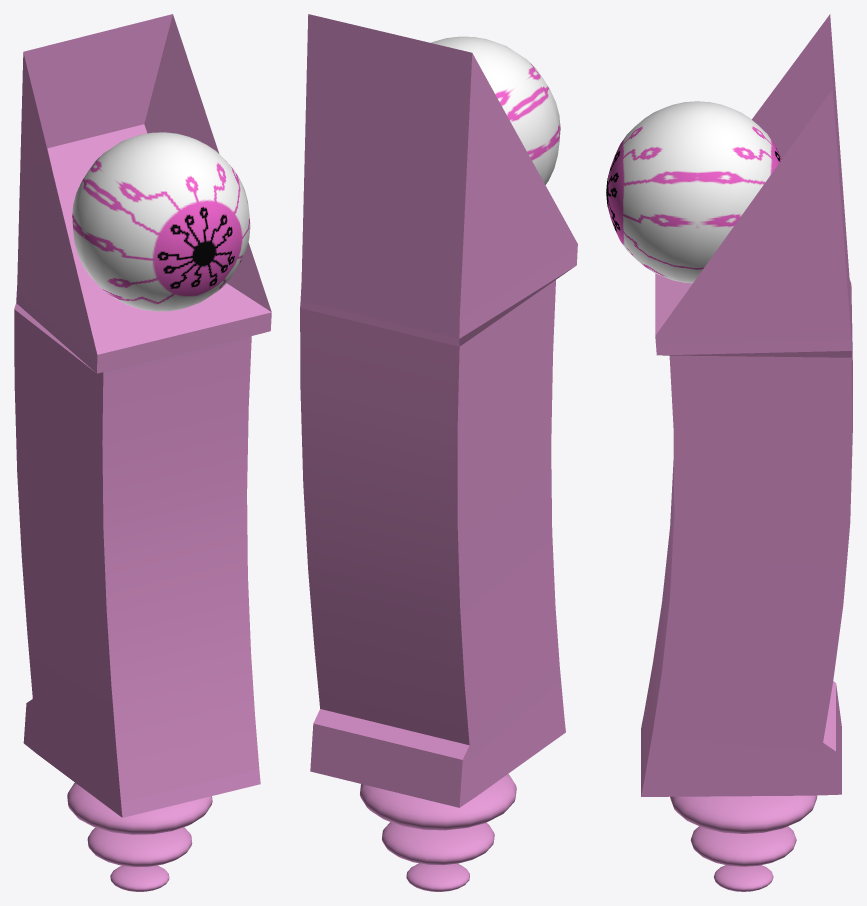
Rendered from MagentaIntCombined.fbx.
3 views of the same model, side by side, from view 1: azimuth 30°, elevation 25°; view 2: azimuth 150°, elevation 25°; view 3: azimuth 270°, elevation 25° (orthographic). The views are drawn at different scales.
Parts seen in each view (by area): view 1: polySurface5; view 2: polySurface5; view 3: polySurface5.
Boxes of the visible parts, x1,y1,x2,y2 form: polySurface5: (14,14,271,891); polySurface5: (300,14,577,891); polySurface5: (606,14,852,891).
Bounding box in the file's own units: 1.34 × 6.04 × 1.62.
2 materials, 1 textured.
